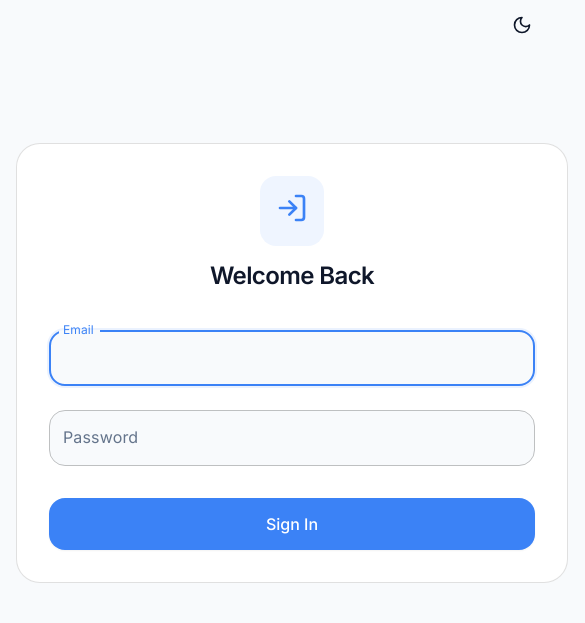
Login › shows validation errors for empty fields
Click the button "Sign In".
click(292, 524)  # box [49,498,535,550]
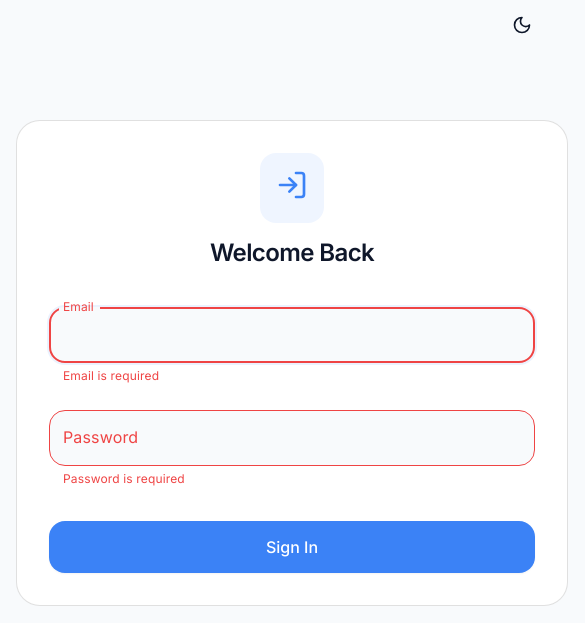
Check: the text "Email is required" is shown, box [63,368,159,384]
Check: the text "Password is required" is shown, box [63,471,185,486]
